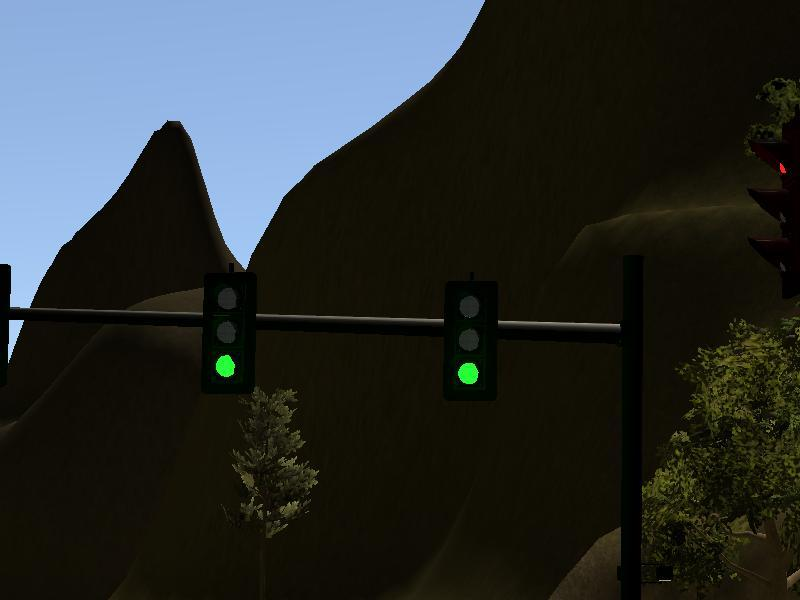Green: (444, 278, 497, 400), (201, 271, 254, 392)
